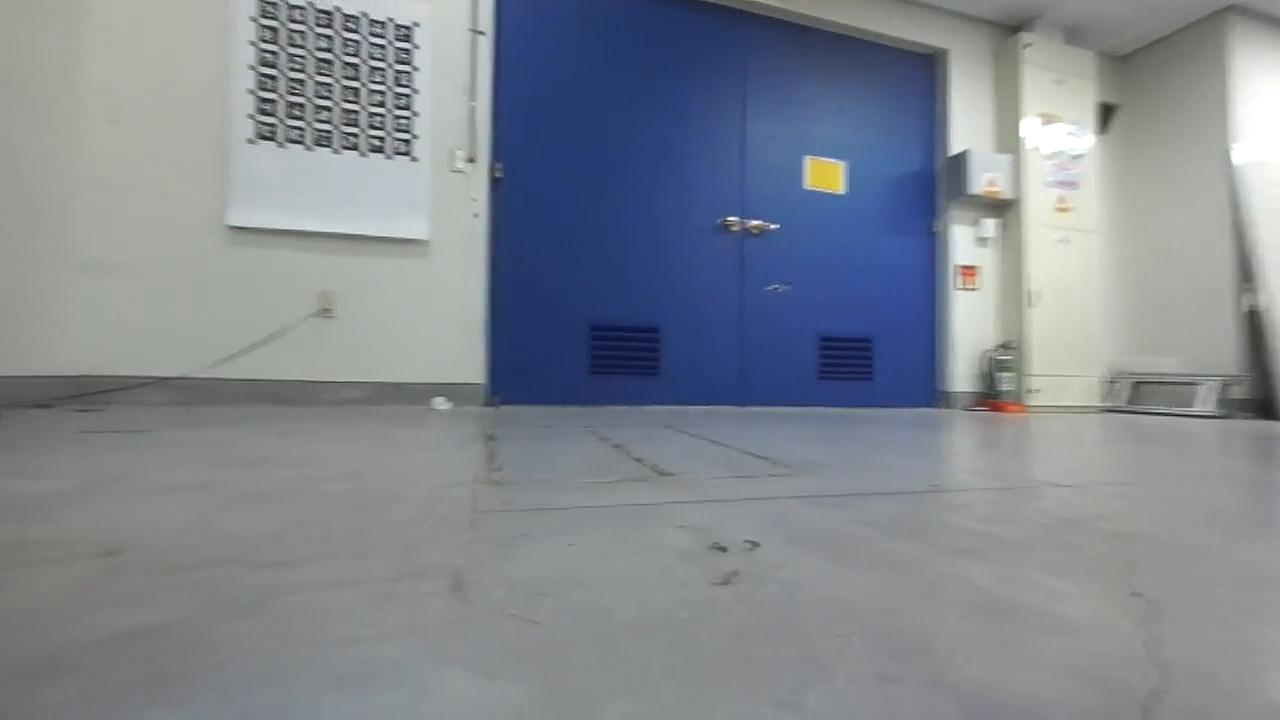crazyflie: (758, 278, 795, 297)
